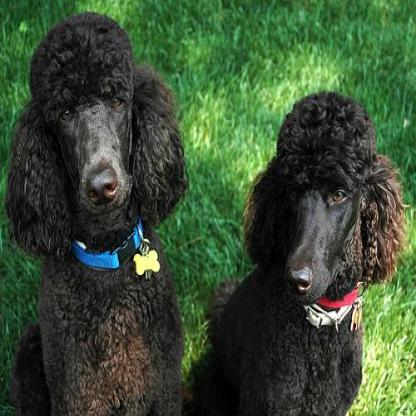standard_poodle: (5, 5, 191, 414), (185, 86, 407, 414)
